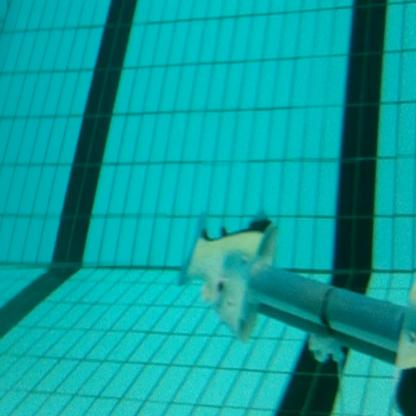tail: (180, 204, 282, 343)
